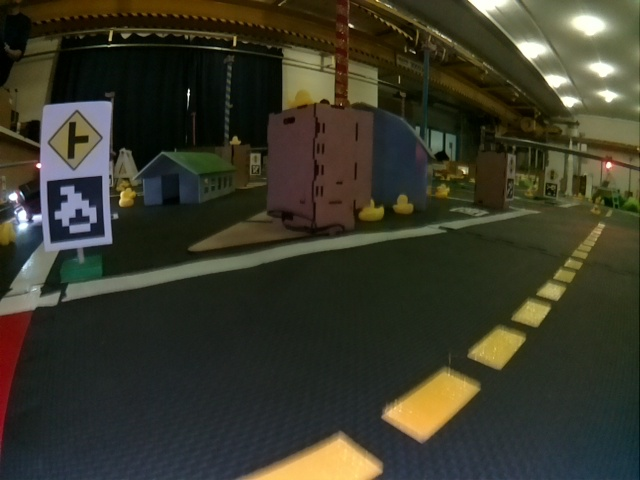Duckie: (358, 198, 381, 218), (394, 195, 413, 214), (119, 191, 132, 206), (229, 136, 241, 145), (436, 186, 445, 195), (591, 204, 600, 212)
Intersection sign: (44, 106, 106, 172)
QR code: (44, 175, 108, 247), (452, 207, 486, 216)
